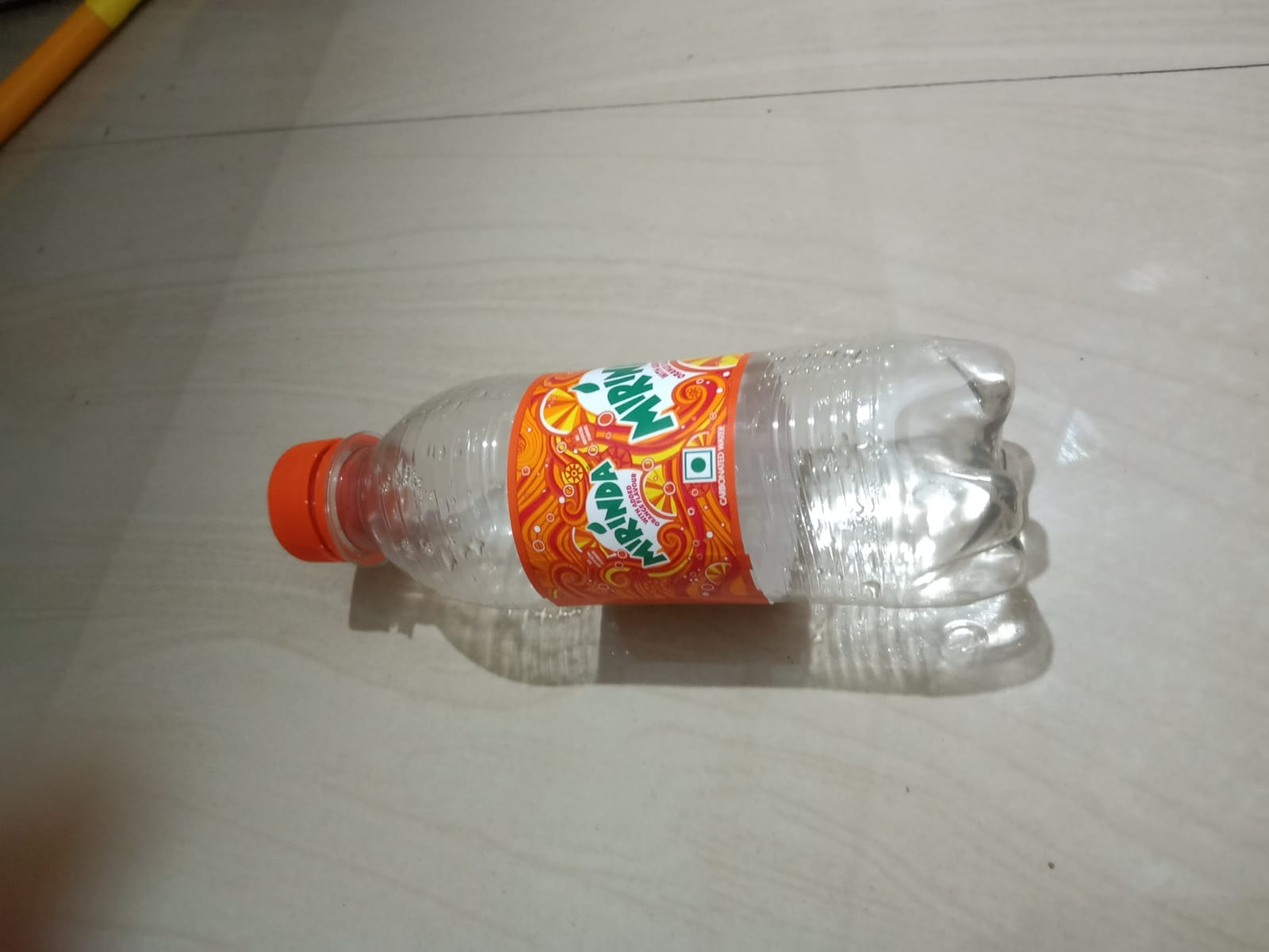plastic: (187, 345, 1260, 627)
